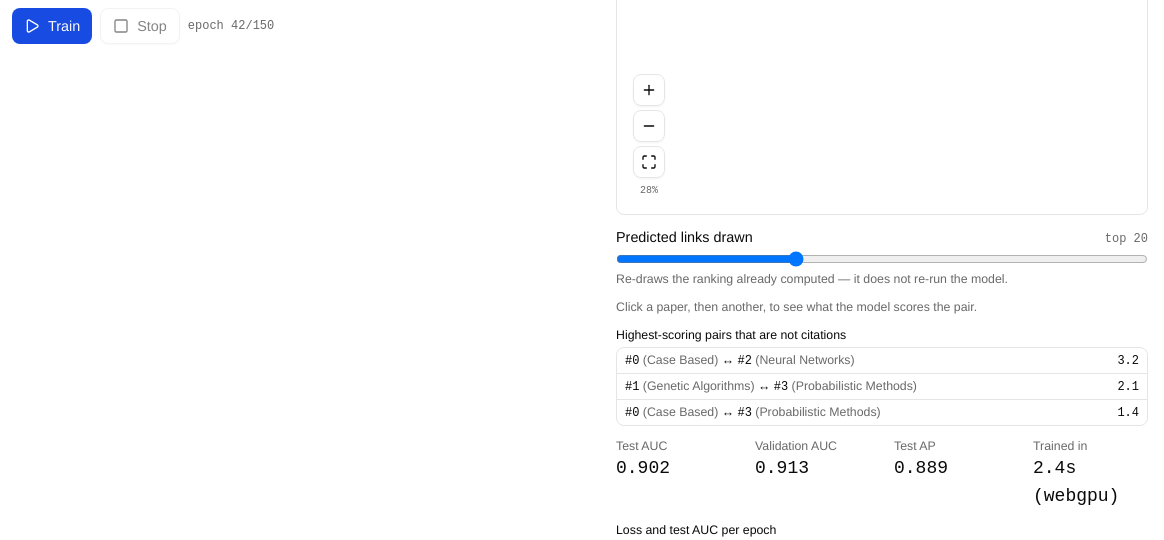
LinkPredictionPage › lists the top pairs as text, because the drawn ones are a few pixels long
The width and height of the screenshot is (1164, 540).
(page scrolled)
Click the button "#0 (Case Based) ↔ #2 (Neural Networks) 3.2" at (681, 360), box x1=617 y1=348 x2=1147 y2=373
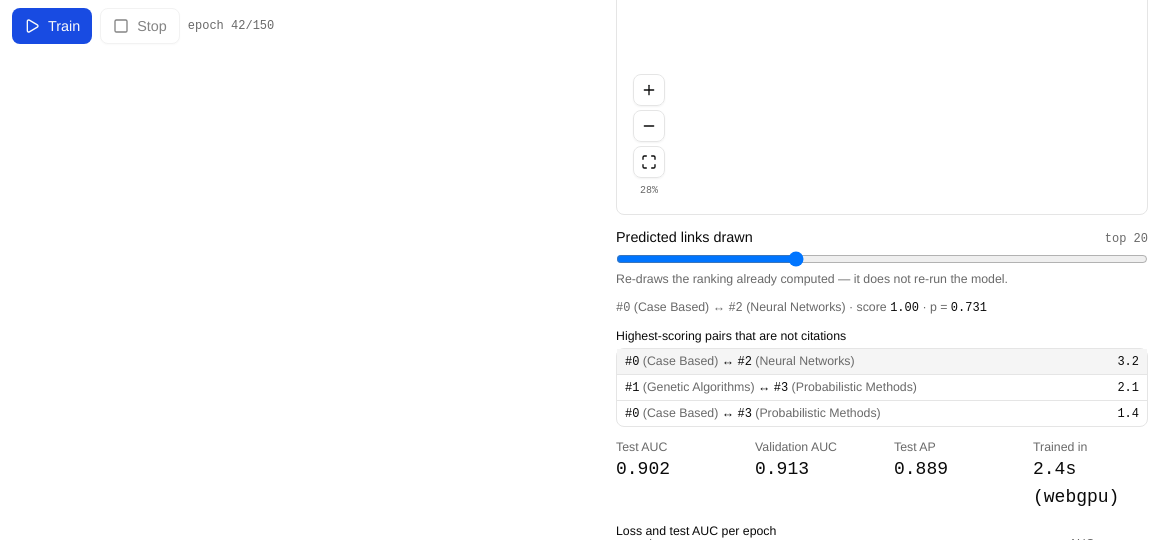
Result: the element with test id "pair-score" shows "#0" at x1=616 y1=299 x2=987 y2=315
Result: the element with test id "pair-score" shows "#2" at x1=616 y1=299 x2=987 y2=315
